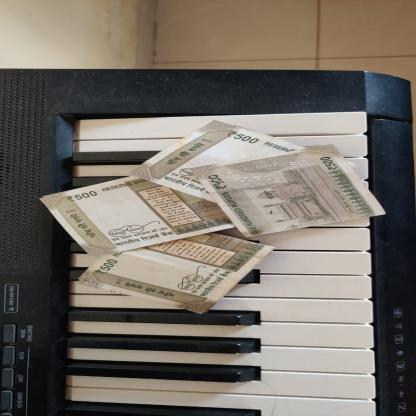New500Back: (126, 120, 360, 204), (188, 143, 388, 238), (76, 232, 276, 315), (38, 176, 238, 258)
